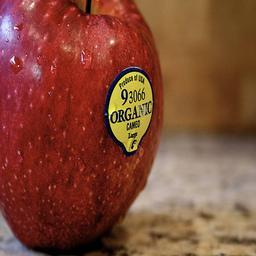apple: (0, 0, 165, 254)
